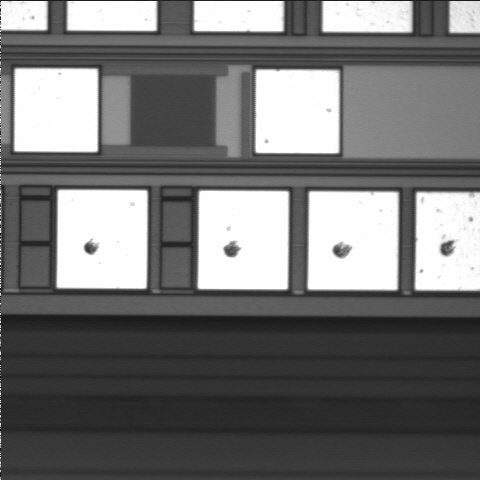pad: (198, 191, 289, 289), (57, 190, 147, 289), (308, 192, 398, 290), (14, 69, 98, 152), (256, 70, 339, 153)
